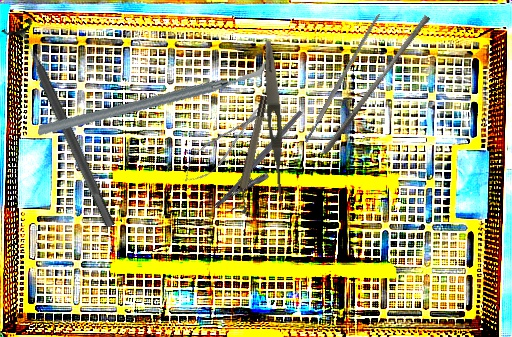Chopper: (37, 23, 270, 171)
Dressing Forceps: (261, 40, 289, 202)
Fixation Ring: (0, 16, 127, 234), (229, 94, 276, 215)
Micro Scissor: (175, 96, 274, 192)
Needle Holder: (212, 109, 317, 221)
Pusher: (321, 11, 431, 160)
Scalpel Handle: (302, 12, 382, 144)
